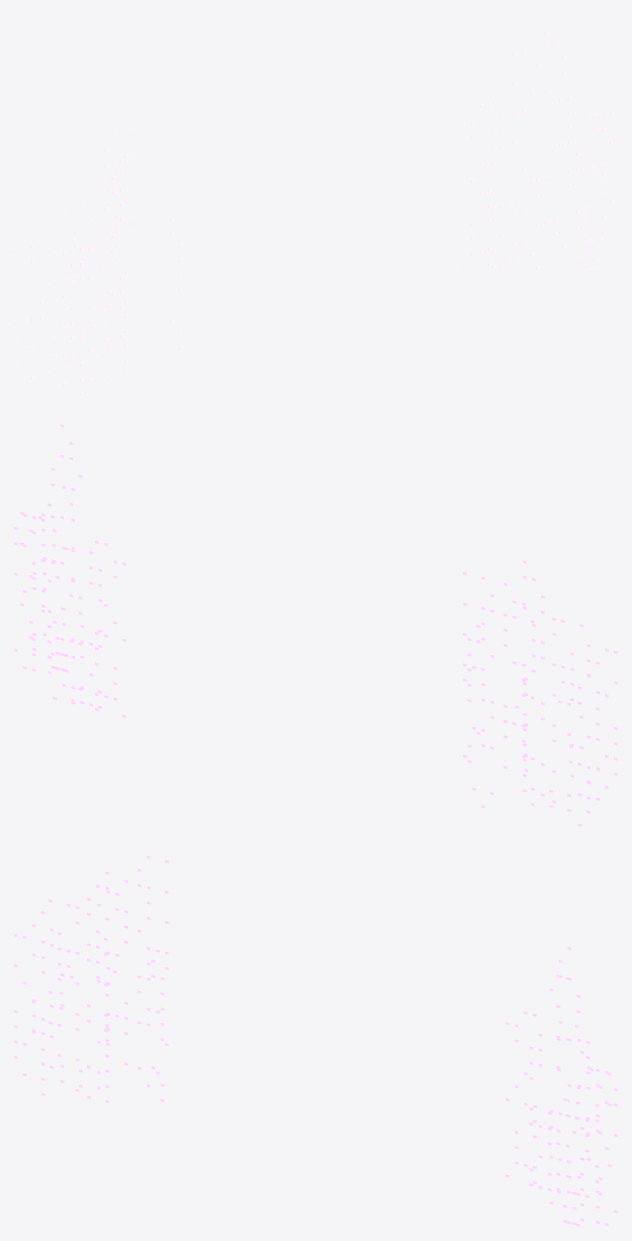
The model's file is FarCityWindows.fbx.
3 renders of one model, top to bottom at view 1: azimuth 30°, elevation 25°; view 2: azimuth 150°, elevation 25°; view 3: azimuth 330°, elevation 25°, orthographic. The views are drawn at different scales.
Parts seen in each view (by area): view 1: FarWin-165_212_10_2.001; view 2: FarWin-165_212_10_2.001; view 3: FarWin-165_212_10_2.001.
Part boxes in pixels (<box>): FarWin-165_212_10_2.001: <box>14,14,617,395</box>; FarWin-165_212_10_2.001: <box>14,424,617,826</box>; FarWin-165_212_10_2.001: <box>14,855,617,1226</box>.
Size of the model in its own units: 33446 by 13740 by 3369.
